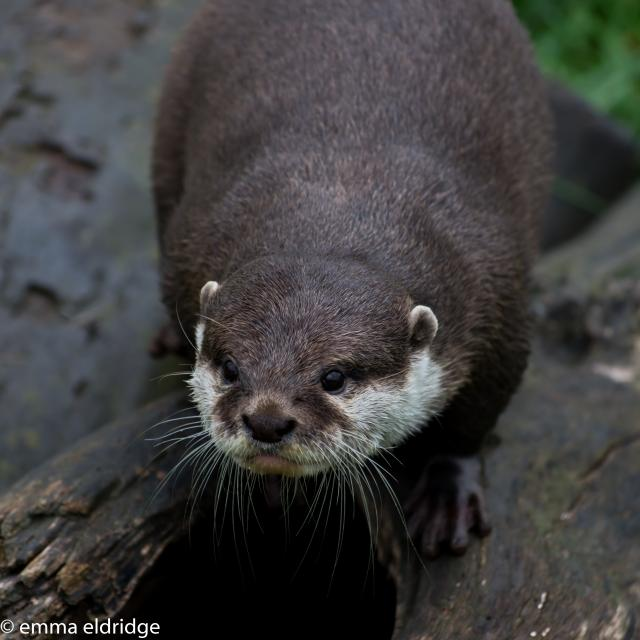otter: (184, 123, 523, 483)
